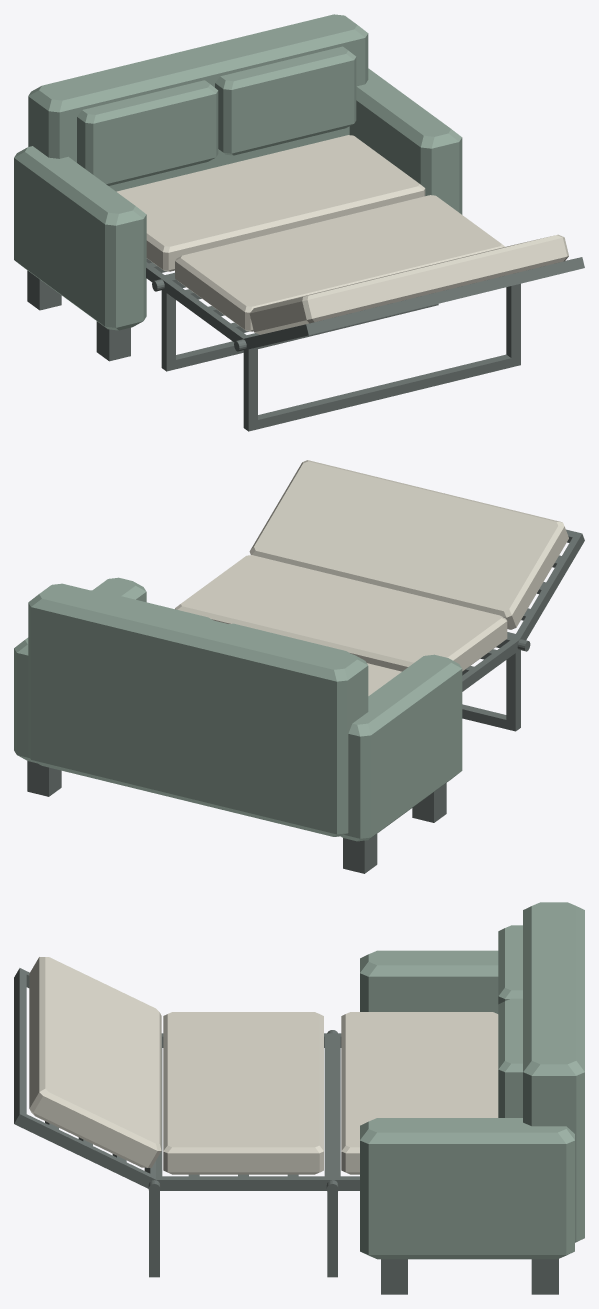
3 views of the same model, one above another, from view 1: azimuth 30°, elevation 25°; view 2: azimuth 150°, elevation 25°; view 3: azimuth 270°, elevation 25° (orthographic). The views are drawn at different scales.
Visible parts, largest first — view 1: RearWholeMattressSection, MiddleWholeMattressSection, WholeSofaArm_-1, WholeRearSofaShell, WholeBackCushion_0.35, WholeBackCushion_-0.35, FoldedFootWholeMattressSection, WholeSofaArm_1, WholeGroundedUFrame_-1.19, FoldedFootWholeBedFrame, WholeGroundedUFrame_-0.47, MiddleWholeBedFrame (+2 smaller); view 2: WholeRearSofaShell, FoldedFootWholeMattressSection, MiddleWholeMattressSection, WholeSofaArm_-1, WholeSofaArm_1, WholeGroundedUFrame_-1.19, FoldedFootWholeBedFrame, WholeSofaFoot_(-0.8, 0.39), MiddleWholeBedFrame, WholeSofaFoot_(0.8, 0.39), WholeSofaFoot_(-0.8, -0.22), RearWholeMattressSection; view 3: WholeSofaArm_1, MiddleWholeMattressSection, FoldedFootWholeMattressSection, RearWholeMattressSection, WholeRearSofaShell, WholeSofaArm_-1, FoldedFootWholeBedFrame, MiddleWholeBedFrame, WholeBackCushion_0.35, WholeBackCushion_-0.35, RearWholeBedFrame, WholeSofaFoot_(0.8, 0.39) (+3 smaller).
Boxes of the visible parts, <box> form: RearWholeMattressSection: <box>116,135,425,271</box>; MiddleWholeMattressSection: <box>175,195,505,331</box>; WholeSofaArm_-1: <box>14,146,146,330</box>; WholeRearSofaShell: <box>28,14,368,191</box>; WholeBackCushion_0.35: <box>215,46,356,155</box>; WholeBackCushion_-0.35: <box>77,80,218,185</box>; FoldedFootWholeMattressSection: <box>249,234,568,334</box>; WholeSofaArm_1: <box>349,68,462,214</box>; WholeGroundedUFrame_-1.19: <box>243,283,520,431</box>; FoldedFootWholeBedFrame: <box>243,257,584,349</box>; WholeGroundedUFrame_-0.47: <box>161,290,438,371</box>; MiddleWholeBedFrame: <box>162,276,259,341</box>; WholeRearSofaShell: <box>28,583,368,836</box>; FoldedFootWholeMattressSection: <box>249,460,568,629</box>; MiddleWholeMattressSection: <box>175,555,507,671</box>; WholeSofaArm_-1: <box>341,654,462,841</box>; WholeSofaArm_1: <box>14,577,146,763</box>; WholeGroundedUFrame_-1.19: <box>462,650,520,731</box>; FoldedFootWholeBedFrame: <box>507,529,584,640</box>; WholeSofaFoot_(-0.8, 0.39): <box>343,834,377,873</box>; MiddleWholeBedFrame: <box>462,637,519,691</box>; WholeSofaFoot_(0.8, 0.39): <box>27,761,61,796</box>; WholeSofaFoot_(-0.8, -0.22): <box>412,783,446,822</box>; RearWholeMattressSection: <box>367,663,401,695</box>; WholeSofaArm_1: <box>360,1118,574,1259</box>; MiddleWholeMattressSection: <box>163,1012,323,1174</box>; FoldedFootWholeMattressSection: <box>29,957,161,1167</box>; RearWholeMattressSection: <box>341,1012,498,1174</box>; WholeRearSofaShell: <box>523,902,584,1242</box>; WholeSofaArm_-1: <box>360,950,498,1013</box>; FoldedFootWholeBedFrame: <box>14,968,155,1188</box>; MiddleWholeBedFrame: <box>155,1033,332,1190</box>; WholeBackCushion_0.35: <box>498,998,522,1117</box>; WholeBackCushion_-0.35: <box>498,925,522,1004</box>; RearWholeBedFrame: <box>332,1033,359,1190</box>; WholeSofaFoot_(0.8, 0.39): <box>531,1259,558,1294</box>.
Size of the model in its own units: 1.81 by 0.99 by 2.31.
